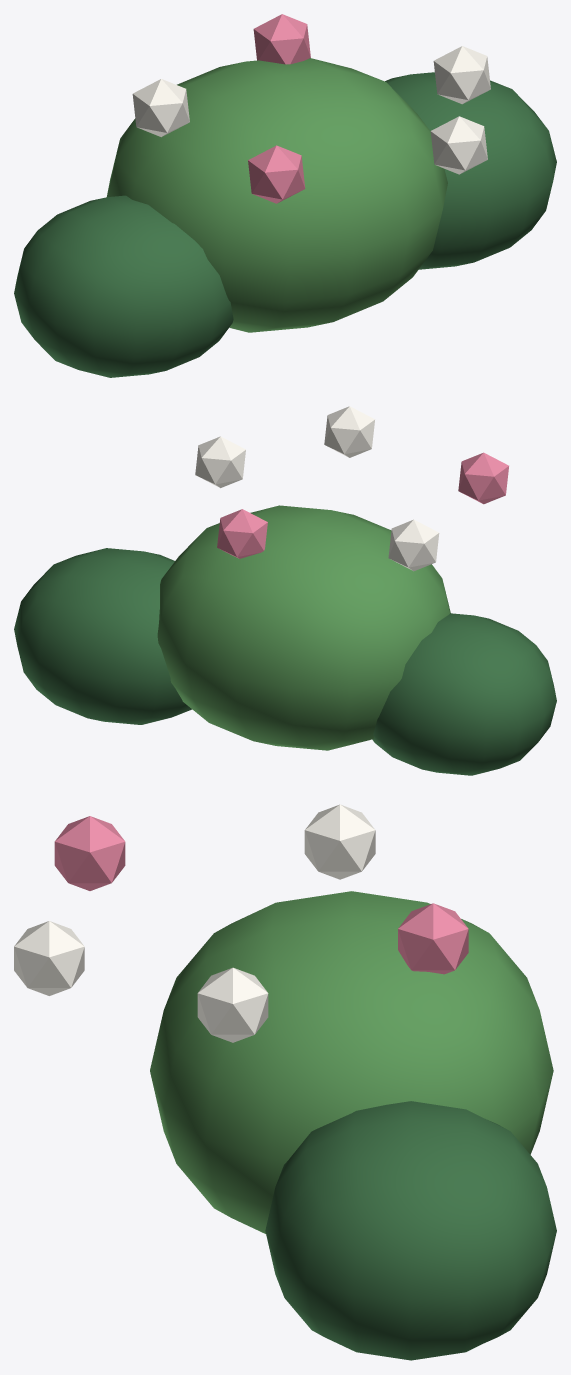
The model's file is bush.glb.
3 views of the same model, one above another, from view 1: azimuth 30°, elevation 25°; view 2: azimuth 150°, elevation 25°; view 3: azimuth 270°, elevation 25° (orthographic). The views are drawn at different scales.
Parts seen in each view (by area): view 1: bush; view 2: bush; view 3: bush.
Boxes of the visible parts, x1,y1,x2,y2 form: bush: (14,14,556,377); bush: (14,406,556,775); bush: (14,804,556,1360).
Size of the model in its own units: 1.37 by 0.6489 by 0.9143.
